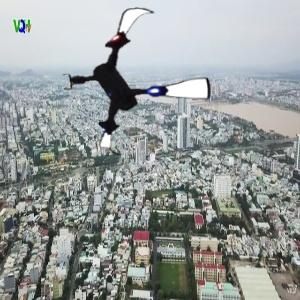drone: (61, 5, 216, 160)
